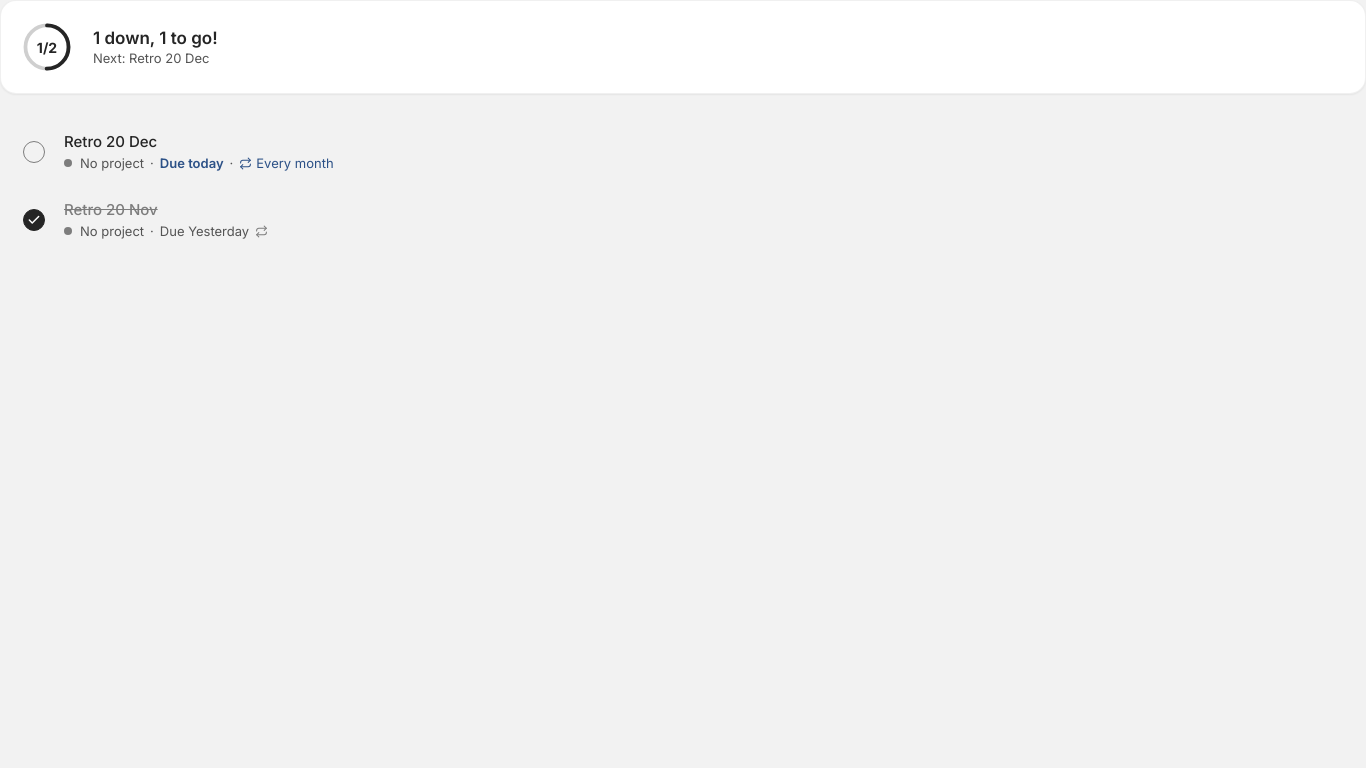
it: Complete a task (TK-1, WF-06) › #168: unticking the repeat just ticked by mistake rolls back to its date, the next one gone
Click the checkbox named "Reopen Retro 20 Nov" at x=34, y=220, box x1=12 y1=198 x2=56 y2=242
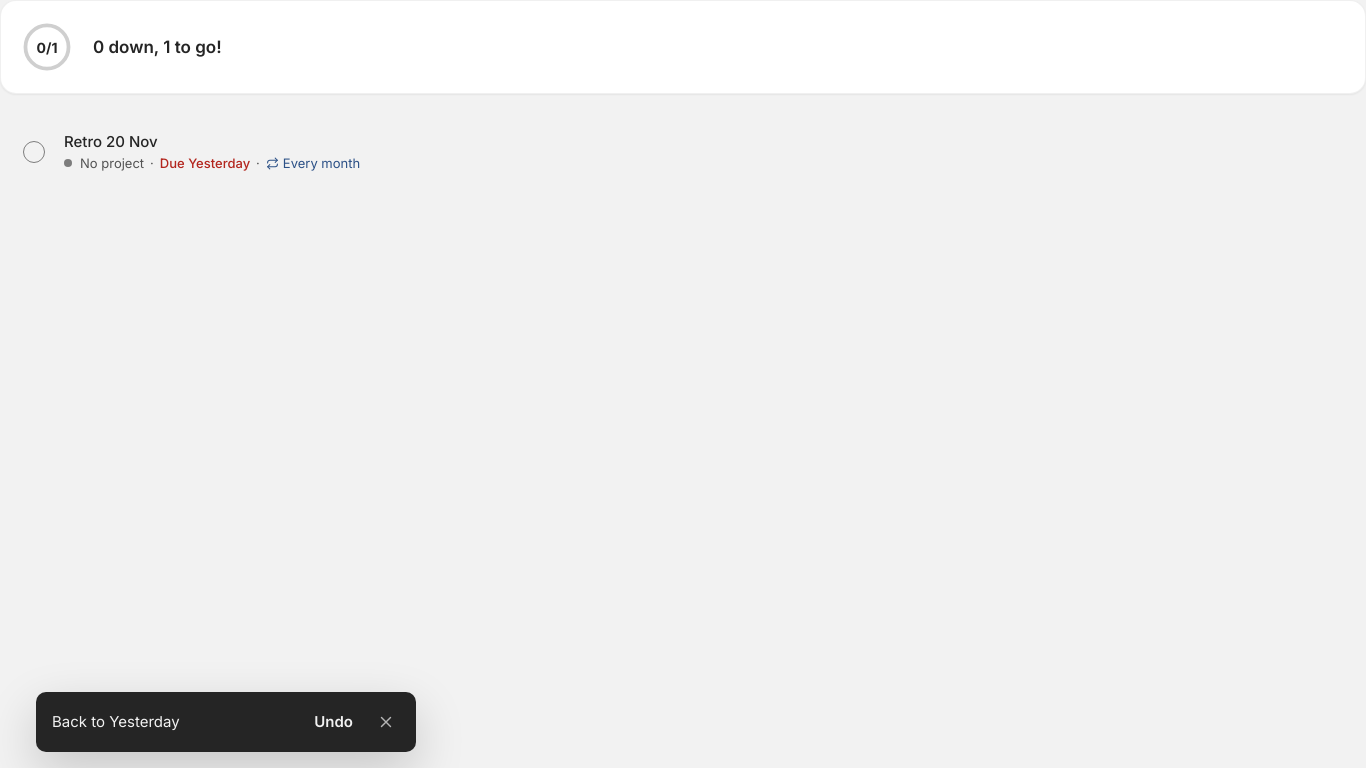
Expected: the checkbox named "Complete Retro 20 Nov" is shown, x1=12 y1=130 x2=56 y2=174
Expected: the text "Retro 20 Dec" is gone
Expected: the text "Back to Yesterday" is shown, x1=52 y1=712 x2=180 y2=731
